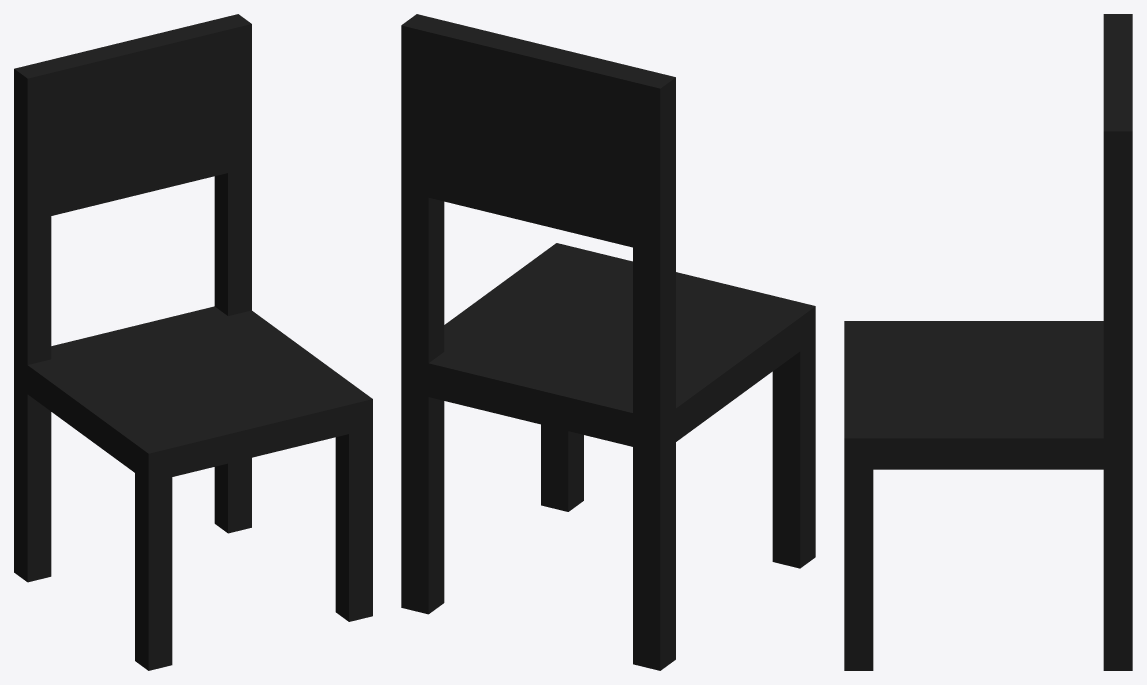
File: silla.glb
3 views of the same model, side by side, from view 1: azimuth 30°, elevation 25°; view 2: azimuth 150°, elevation 25°; view 3: azimuth 270°, elevation 25° (orthographic). The views are drawn at different scales.
Parts seen in each view (by area): view 1: Cube.014; view 2: Cube.014; view 3: Cube.014.
Boxes of the visible parts, box(x1,y1,x2,y2) form: Cube.014: box(14, 14, 372, 670); Cube.014: box(401, 14, 815, 670); Cube.014: box(844, 14, 1132, 670).
Bounding box in the file's own units: 0.6323 × 1.36 × 0.6567.
1 material, 1 textured.
